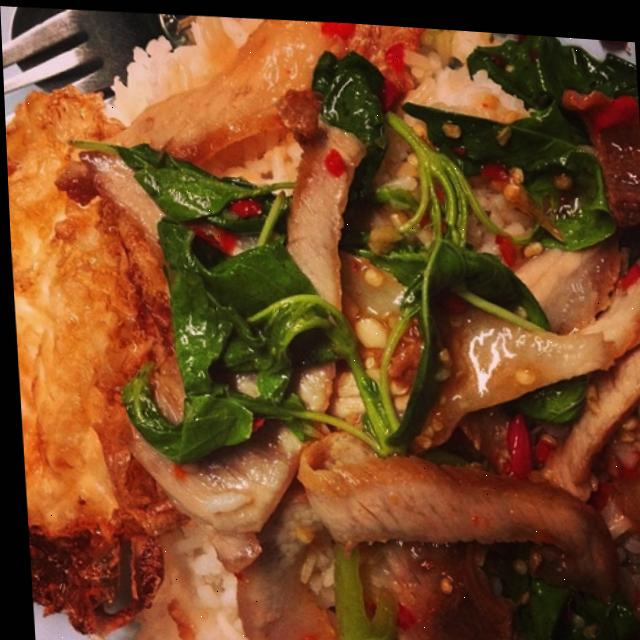猪肉菜式: (24, 22, 640, 640)
